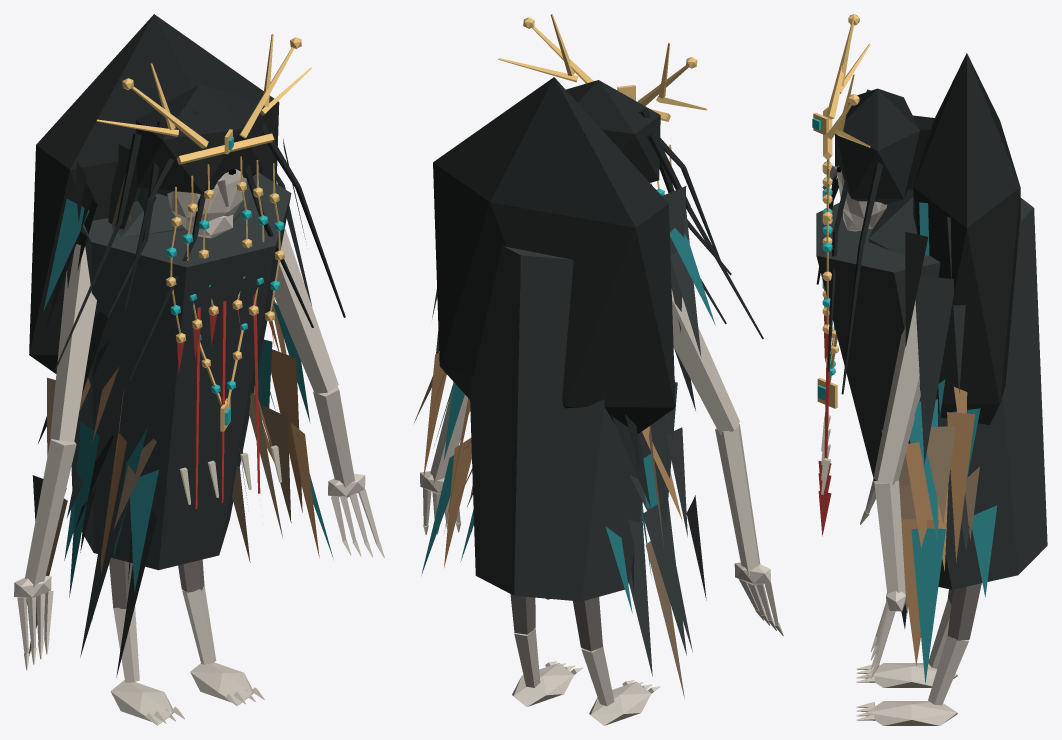
The model's file is albasty_lowpoly.glb.
The picture shows the model from 3 angles, left to right: view 1: azimuth 30°, elevation 25°; view 2: azimuth 150°, elevation 25°; view 3: azimuth 270°, elevation 25°; orthographic projection. The views are drawn at different scales.
Visible parts, largest first — view 1: Body_Hunched_Torso, Back_Hair_Hump, Hair_Mass_Above_Face, L_UpperArm_TooLong, R_UpperArm_TooLong, L_Forearm_TooLong, R_Forearm_TooLong, Hair_Cloak_Triangle_45, Face_Beautiful_HalfHidden, Hair_Cloak_Triangle_35, Hair_Cloak_Triangle_17, L_Bare_Foot (+28 smaller); view 2: Back_Hair_Hump, Body_Hunched_Torso, Hair_Mass_Above_Face, L_UpperArm_TooLong, L_Forearm_TooLong, Hair_Cloak_Triangle_64, L_Bare_Foot, R_Bare_Foot, Hair_Cloak_Triangle_37, Hair_Cloak_Triangle_68, Hair_Cloak_Triangle_53, R_Forearm_TooLong (+16 smaller); view 3: Body_Hunched_Torso, Back_Hair_Hump, Hair_Mass_Above_Face, R_UpperArm_TooLong, Hair_Cloak_Triangle_59, Hair_Cloak_Triangle_03, R_Forearm_TooLong, Hair_Cloak_Triangle_76, R_Bare_Foot, Chest_Narrow, Hair_Cloak_Triangle_10, Hair_Cloak_Triangle_68 (+18 smaller).
Boxes of the visible parts, left/top/right/bottom form: Body_Hunched_Torso: left=71, top=173, right=291, bottom=570; Back_Hair_Hump: left=29, top=14, right=279, bottom=373; Hair_Mass_Above_Face: left=136, top=84, right=263, bottom=196; L_UpperArm_TooLong: left=50, top=244, right=96, bottom=441; R_UpperArm_TooLong: left=272, top=228, right=338, bottom=393; L_Forearm_TooLong: left=25, top=439, right=76, bottom=588; R_Forearm_TooLong: left=313, top=386, right=354, bottom=487; Hair_Cloak_Triangle_45: left=271, top=349, right=302, bottom=512; Face_Beautiful_HalfHidden: left=167, top=169, right=246, bottom=229; Hair_Cloak_Triangle_35: left=69, top=421, right=99, bottom=597; Hair_Cloak_Triangle_17: left=129, top=469, right=158, bottom=591; L_Bare_Foot: left=110, top=680, right=173, bottom=724; Back_Hair_Hump: left=433, top=77, right=675, bottom=433; Body_Hunched_Torso: left=469, top=245, right=650, bottom=601; Hair_Mass_Above_Face: left=566, top=80, right=660, bottom=182; L_UpperArm_TooLong: left=671, top=289, right=739, bottom=434; L_Forearm_TooLong: left=715, top=423, right=760, bottom=575; Hair_Cloak_Triangle_64: left=642, top=501, right=686, bottom=655; L_Bare_Foot: left=589, top=681, right=651, bottom=725; R_Bare_Foot: left=512, top=662, right=573, bottom=706; Hair_Cloak_Triangle_37: left=649, top=382, right=677, bottom=526; Hair_Cloak_Triangle_68: left=444, top=438, right=471, bottom=567; Hair_Cloak_Triangle_53: left=629, top=511, right=652, bottom=676; R_Forearm_TooLong: left=430, top=391, right=470, bottom=485; Body_Hunched_Torso: left=816, top=198, right=1047, bottom=589; Back_Hair_Hump: left=913, top=53, right=1020, bottom=424; Hair_Mass_Above_Face: left=835, top=88, right=919, bottom=204; R_UpperArm_TooLong: left=873, top=300, right=920, bottom=484; Hair_Cloak_Triangle_59: left=915, top=275, right=954, bottom=463; Hair_Cloak_Triangle_03: left=911, top=528, right=945, bottom=684; R_Forearm_TooLong: left=874, top=480, right=905, bottom=594; Hair_Cloak_Triangle_76: left=947, top=412, right=974, bottom=562; R_Bare_Foot: left=866, top=701, right=957, bottom=725; Chest_Narrow: left=868, top=189, right=926, bottom=257; Hair_Cloak_Triangle_10: left=921, top=426, right=955, bottom=523; Hair_Cloak_Triangle_68: left=901, top=519, right=939, bottom=665.
Bounding box in the file's own units: 1.56 × 2.76 × 0.8954.
